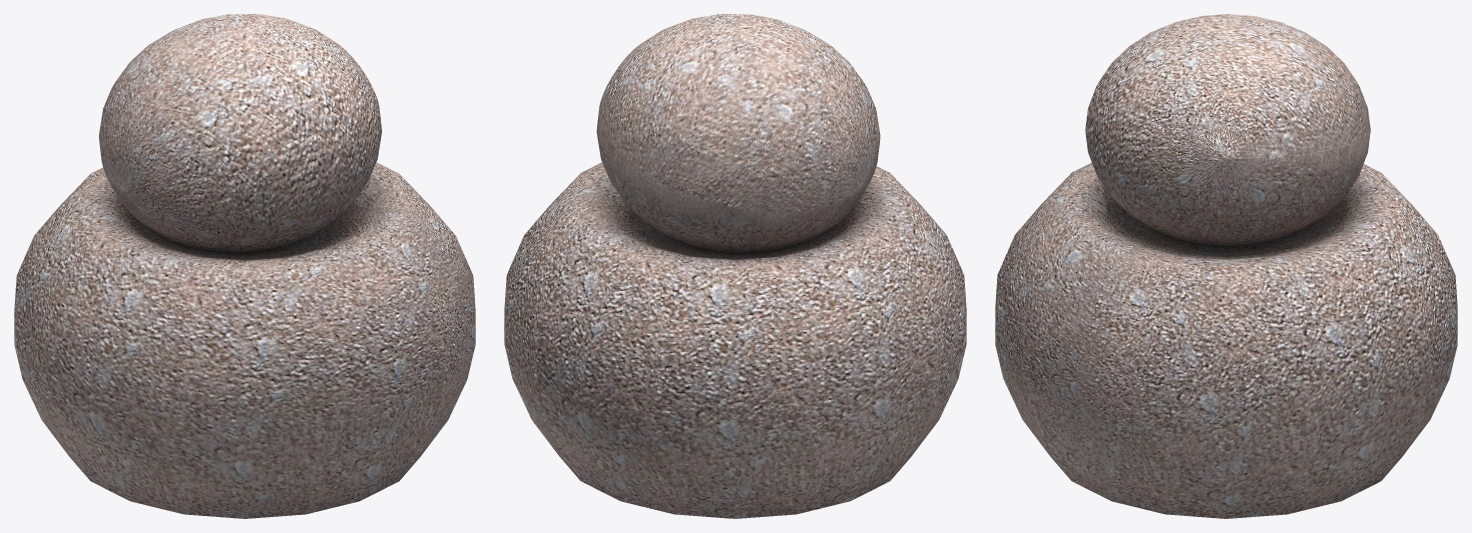
File: batan_ar.glb
3 views of the same model, side by side, from view 1: azimuth 30°, elevation 25°; view 2: azimuth 150°, elevation 25°; view 3: azimuth 270°, elevation 25° (orthographic).
Visible parts, largest first — view 1: Cylinder002; view 2: Cylinder002; view 3: Cylinder002.
Boxes of the visible parts, bbox=[...] form: Cylinder002: bbox=[14, 14, 475, 518]; Cylinder002: bbox=[504, 14, 966, 518]; Cylinder002: bbox=[995, 14, 1457, 518].
Bounding box in the file's own units: 2.57 × 2.6 × 2.53.
Materials: 1 (1 with a texture image).
